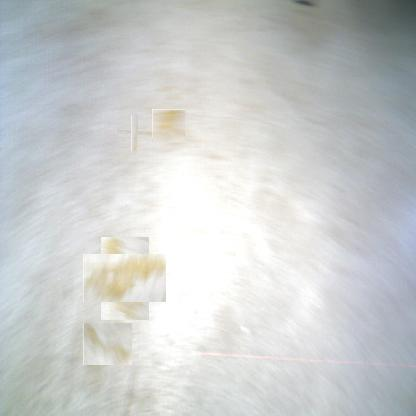liquid: (92, 246, 158, 311), (85, 322, 131, 367), (152, 109, 185, 138), (124, 123, 146, 144)
